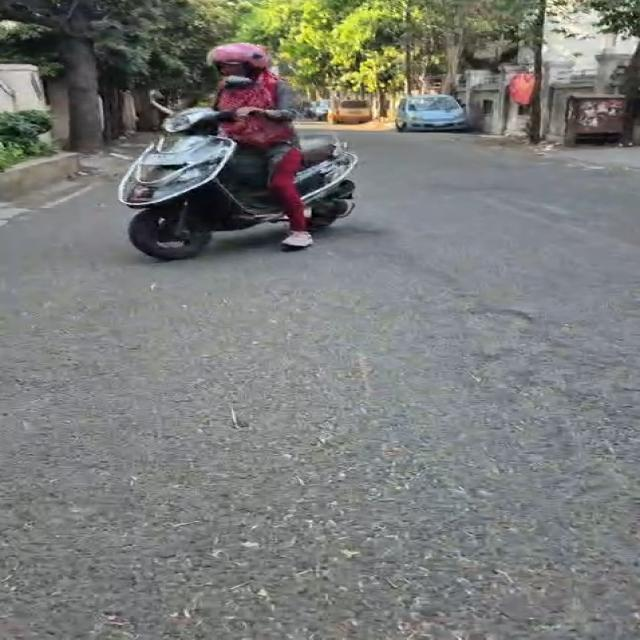vehical: (118, 103, 286, 260), (395, 95, 467, 131), (329, 100, 372, 124), (311, 100, 330, 121)
